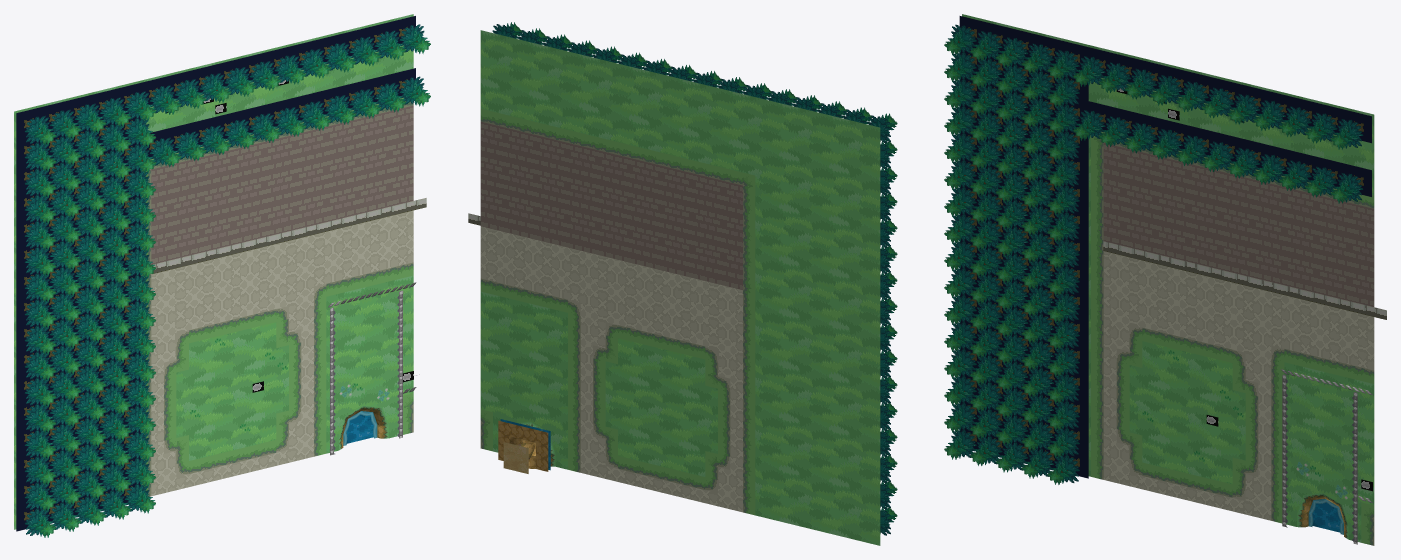
File: HGRT-OW-v1_37_07.obj
The picture shows the model from 3 angles, left to right: view 1: azimuth 30°, elevation 25°; view 2: azimuth 150°, elevation 25°; view 3: azimuth 330°, elevation 25°; orthographic projection. The views are drawn at different scales.
Parts seen in each view (by area): view 1: map; view 2: map; view 3: map.
Part boxes in pixels (<box>): map: <box>14,14,430,537</box>; map: <box>468,22,897,545</box>; map: <box>944,14,1386,545</box>.
Bounding box in the file's own units: 33 × 32 × 5.62.
Materials: 24 (24 with a texture image).
